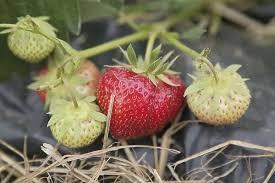straw-ripe: (97, 65, 187, 139)
straw-unripe: (188, 69, 251, 125), (50, 102, 105, 147), (8, 18, 56, 63)
